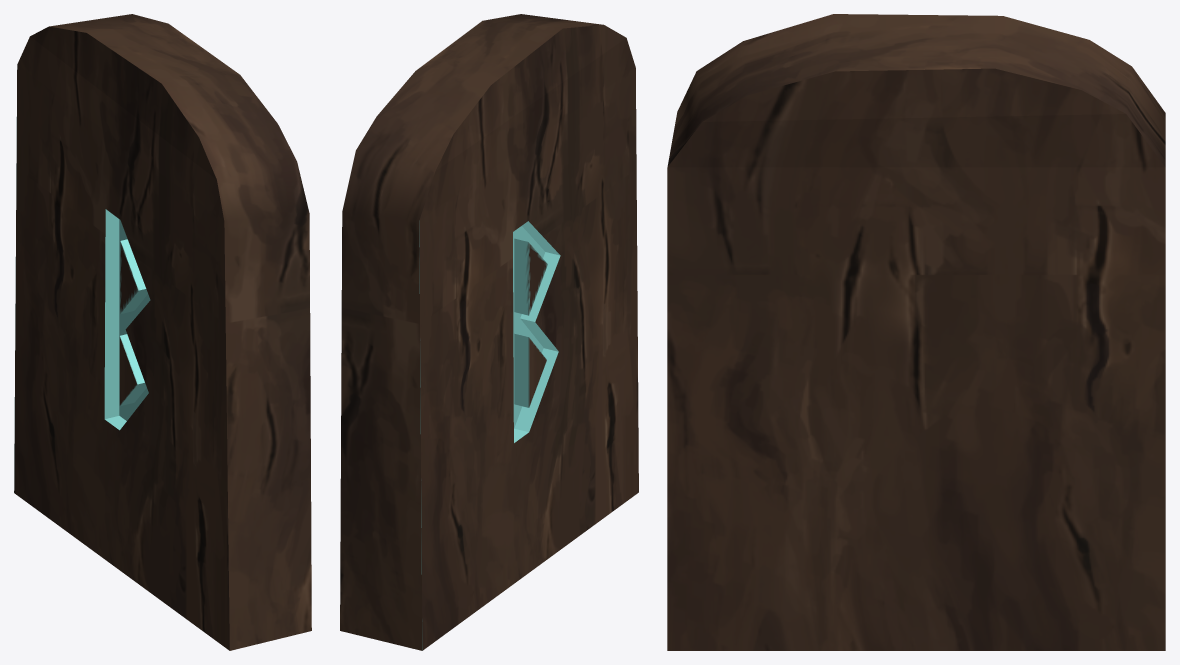
Rendered from Door 6.fbx.
3 views of the same model, side by side, from view 1: azimuth 30°, elevation 25°; view 2: azimuth 150°, elevation 25°; view 3: azimuth 270°, elevation 25° (orthographic). The views are drawn at different scales.
Parts seen in each view (by area): view 1: Door_6; view 2: Door_6; view 3: Door_6.
Boxes of the visible parts, x1,y1,x2,y2 form: Door_6: [14, 14, 311, 650]; Door_6: [340, 14, 638, 650]; Door_6: [667, 14, 1165, 650].
Bounding box in the file's own units: 0.7182 × 4.18 × 3.18.
